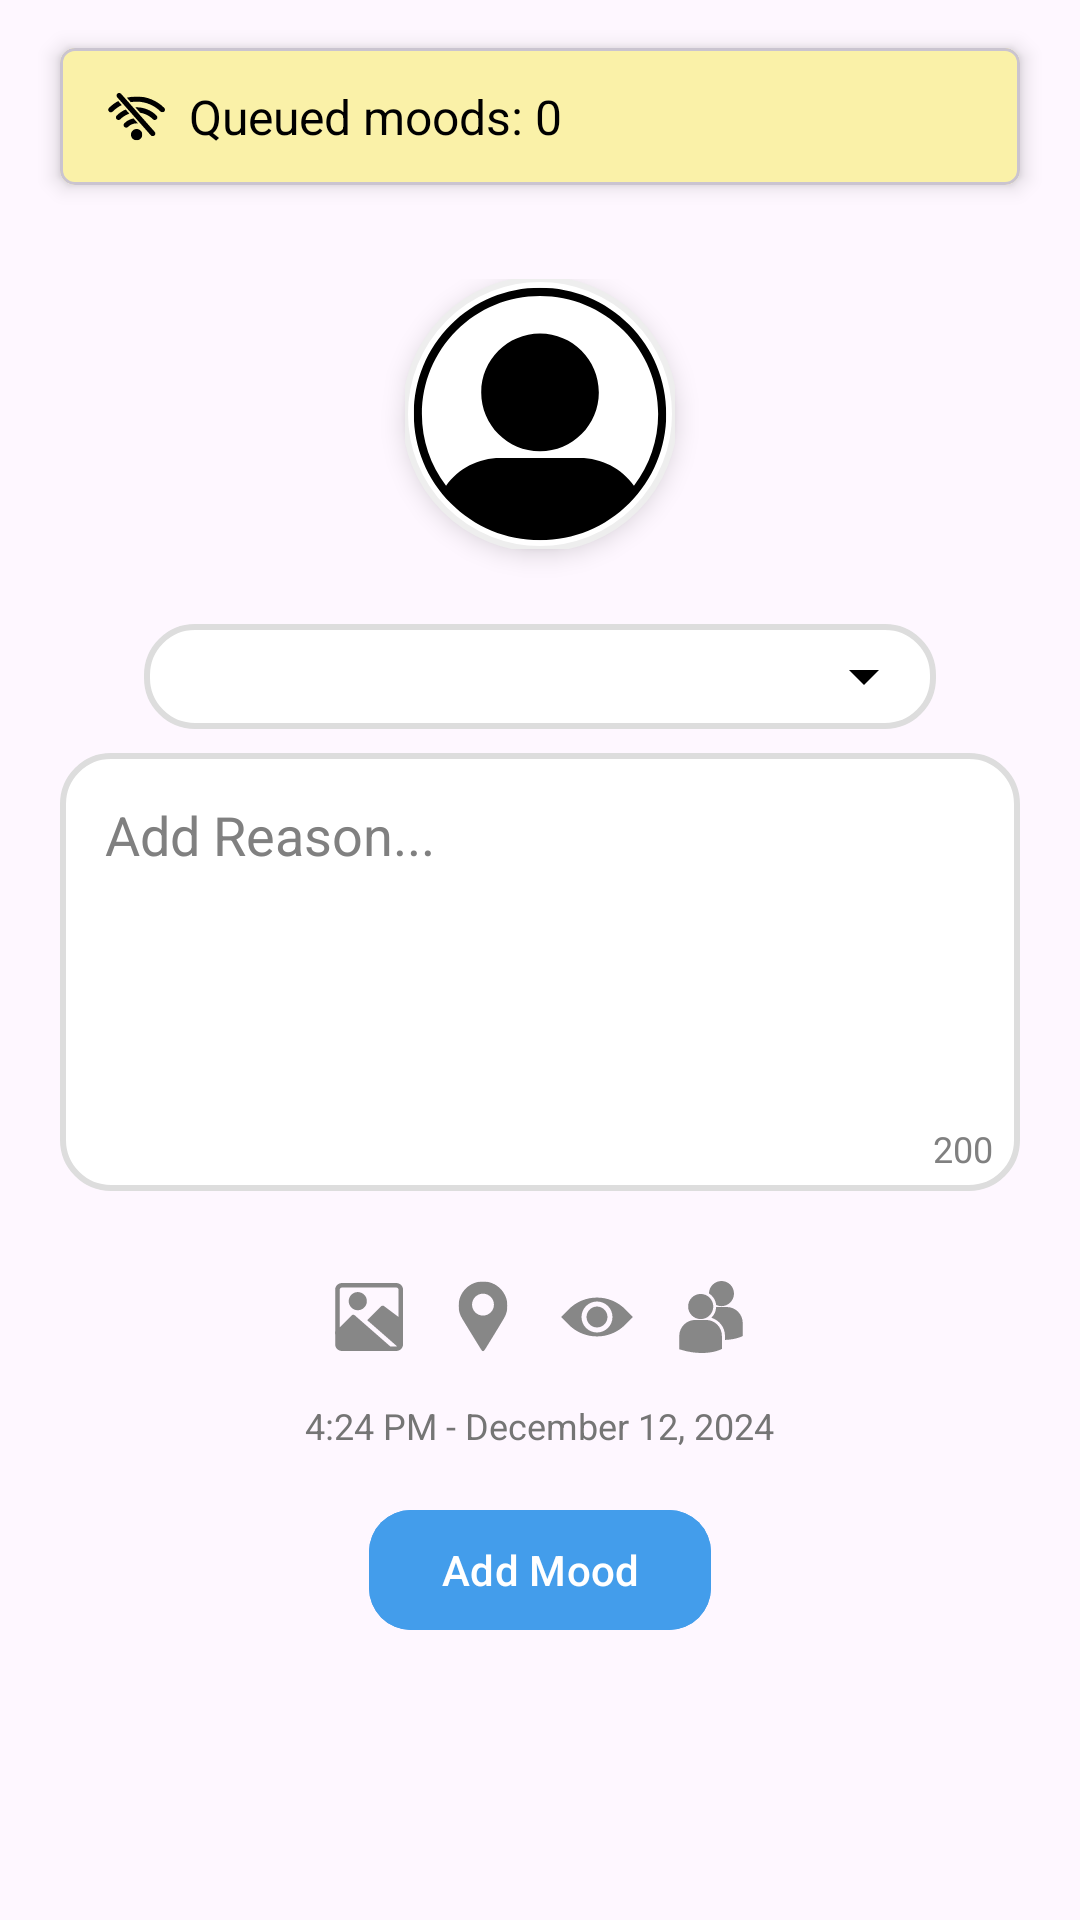

Icons on this 1080px x 1920px Android screen, each with the point to tap as point (x, y):
dropdown: point (864, 677)
eye open: point (597, 1317)
location: point (483, 1316)
no internet: point (136, 116)
profile: point (540, 414)
